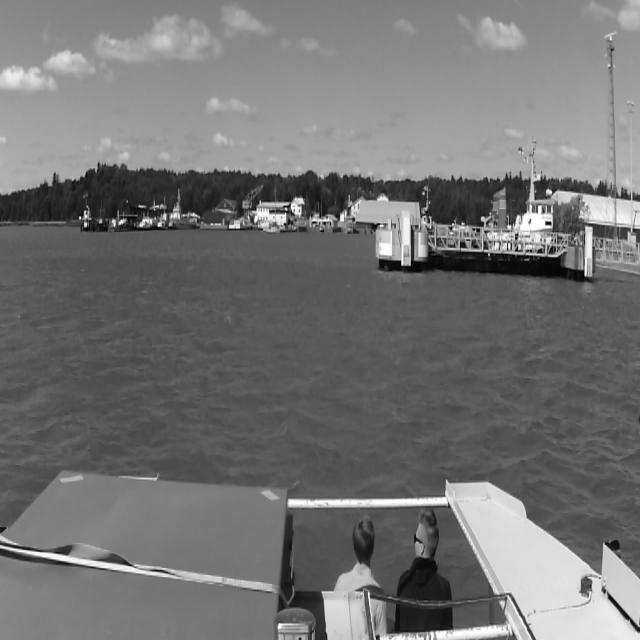ship: (445, 182, 565, 248), (76, 203, 109, 231), (169, 204, 197, 226), (134, 218, 152, 231), (152, 220, 166, 230)
